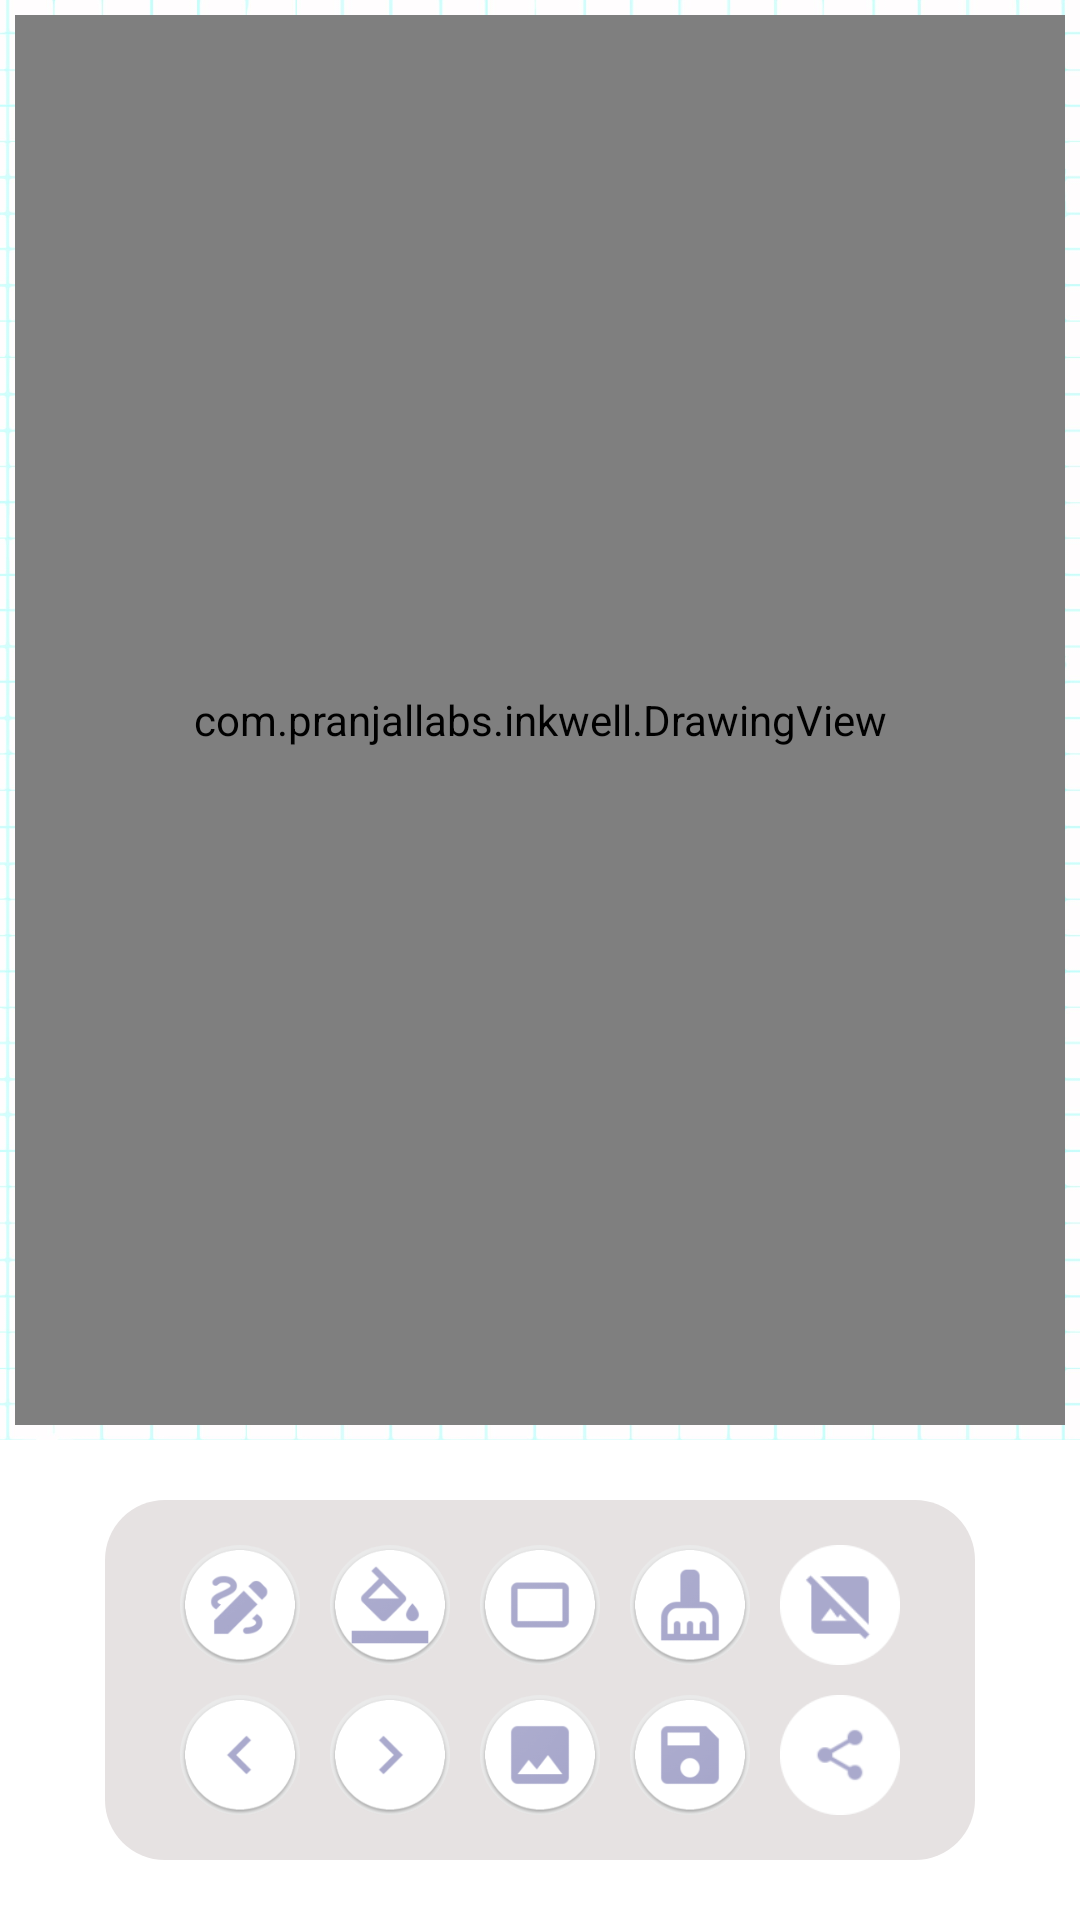

Named icons in this screenshot (1080 × 1920) and their centers, point (x, y):
brush: point (240, 1606)
hideimage: point (840, 1605)
redo: point (390, 1756)
save: point (690, 1756)
share: point (840, 1755)
undo: point (240, 1756)
